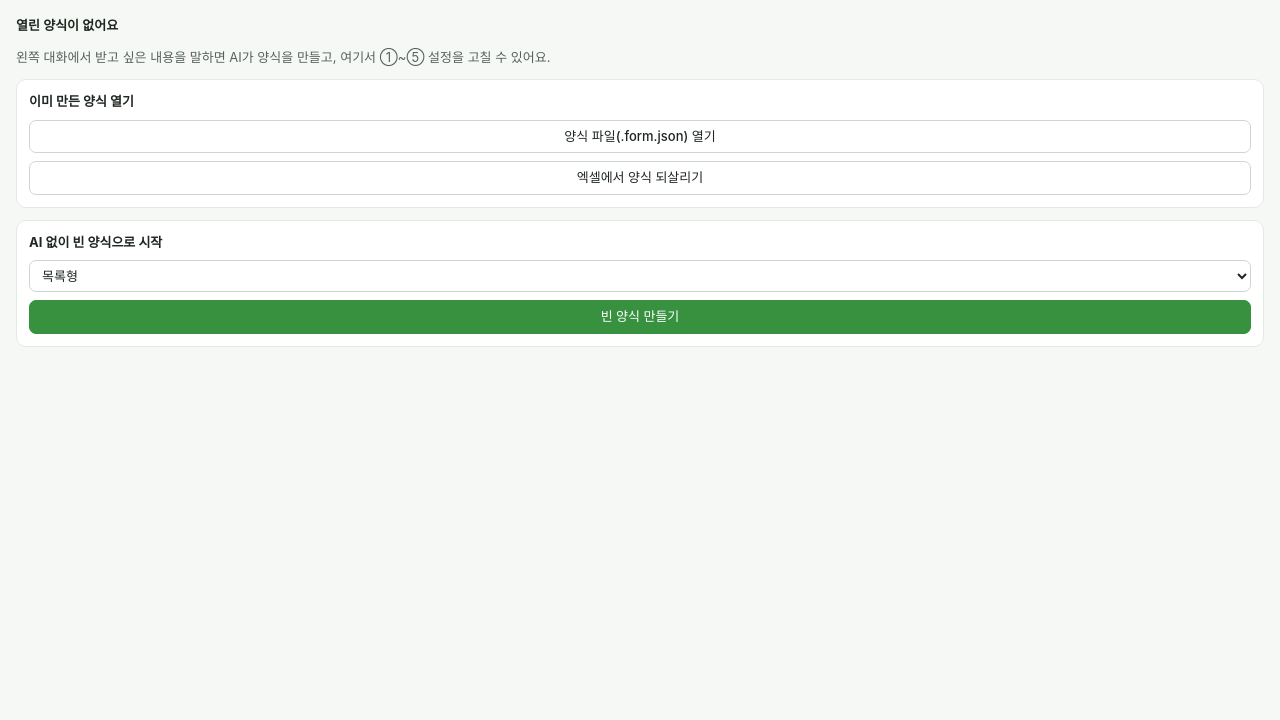
Test: 열린 양식이 없으면 안내 + 빈 양식 만들기 → 대화에 카드를 붙이라고 알림
This screenshot has width=1280, height=720.
Check: the text "열린 양식이 없어요" is shown, box [16,17,118,33]
Select "혼합형" in the dropdown named "양식 구조" at (640, 276), box [29,260,1251,292]
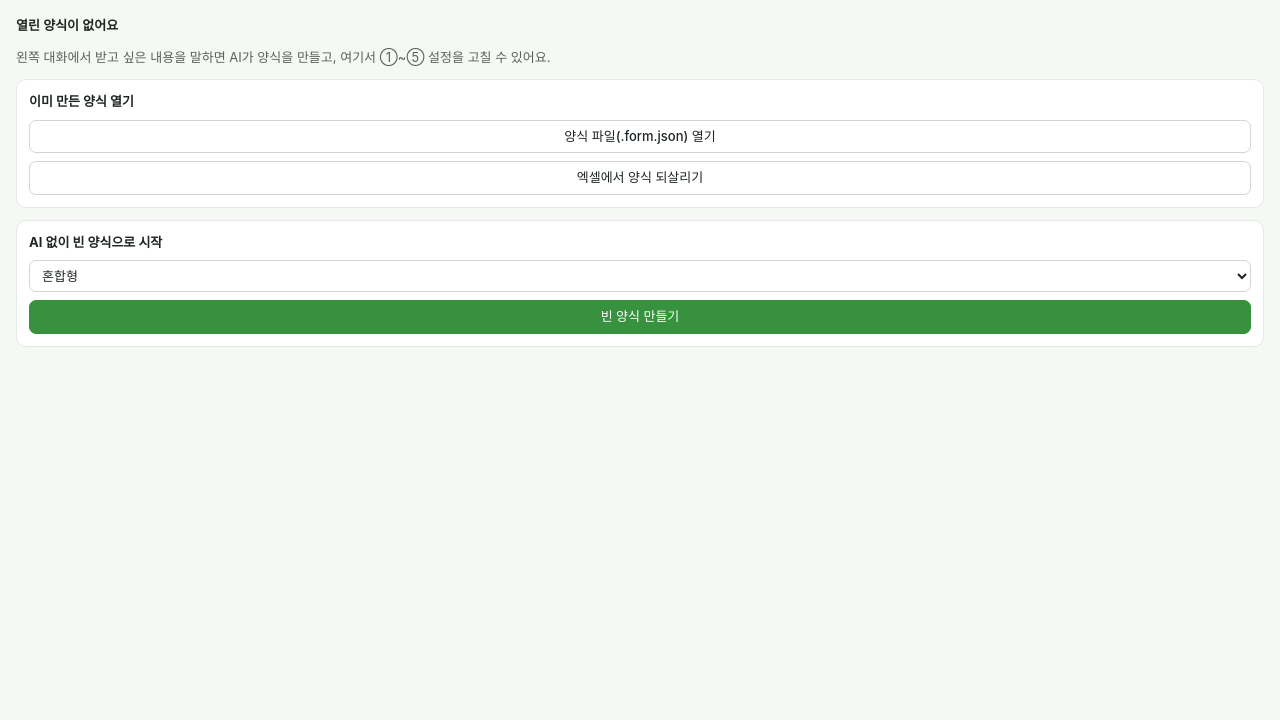
Click the button "빈 양식 만들기".
click(640, 317)  # box [29,300,1251,334]
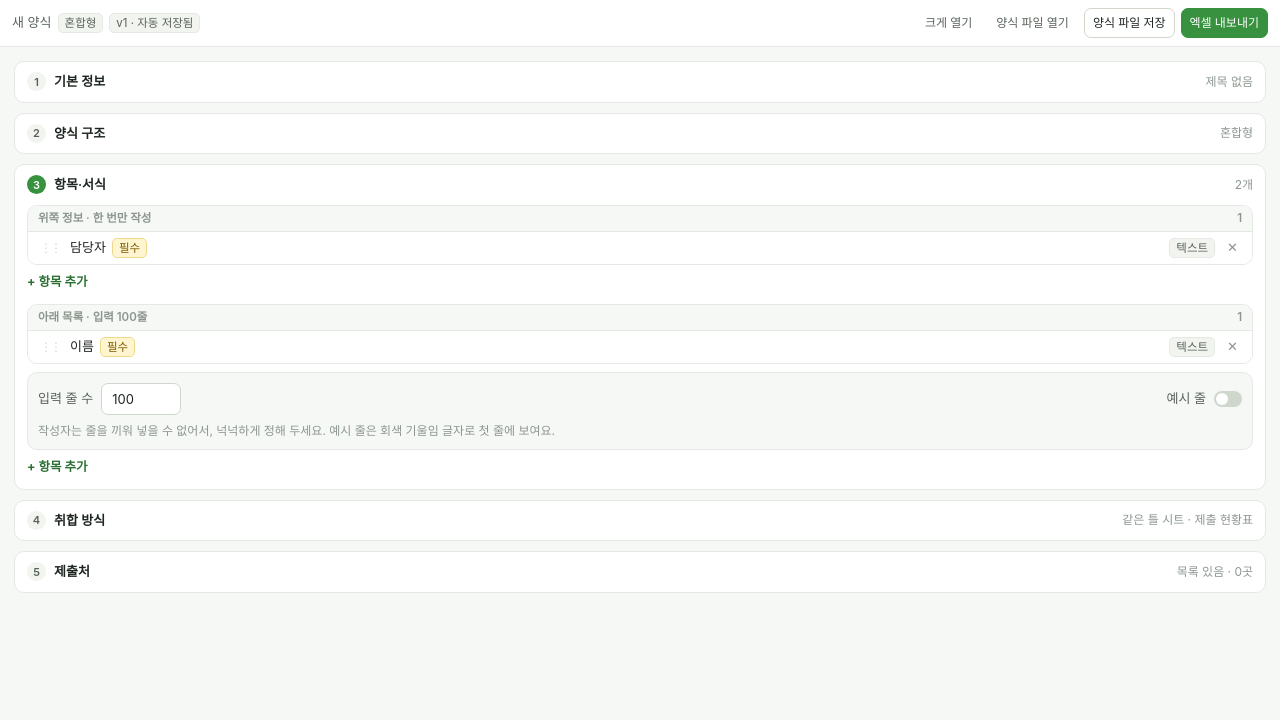
Check: the element named "양식 설정" is shown
